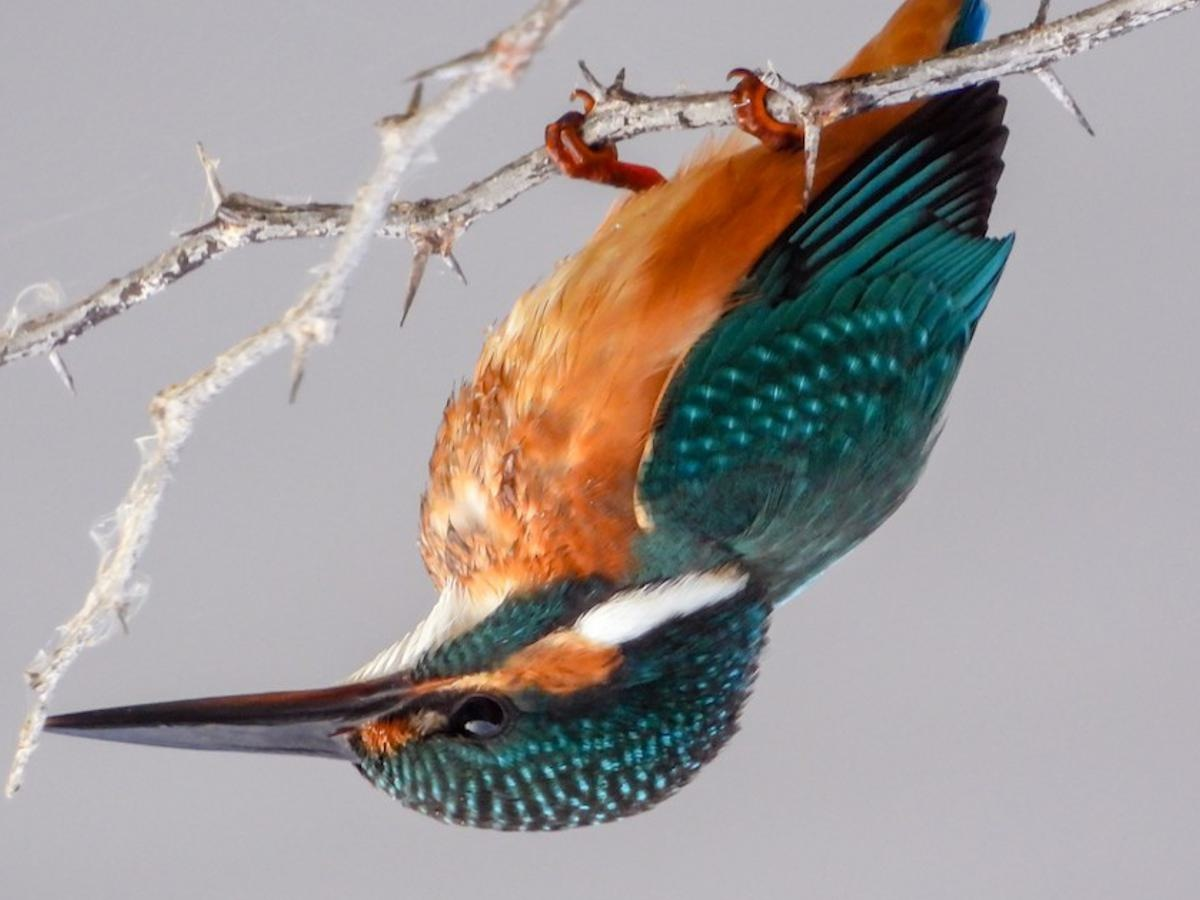kingfisher: (33, 1, 1069, 837)
